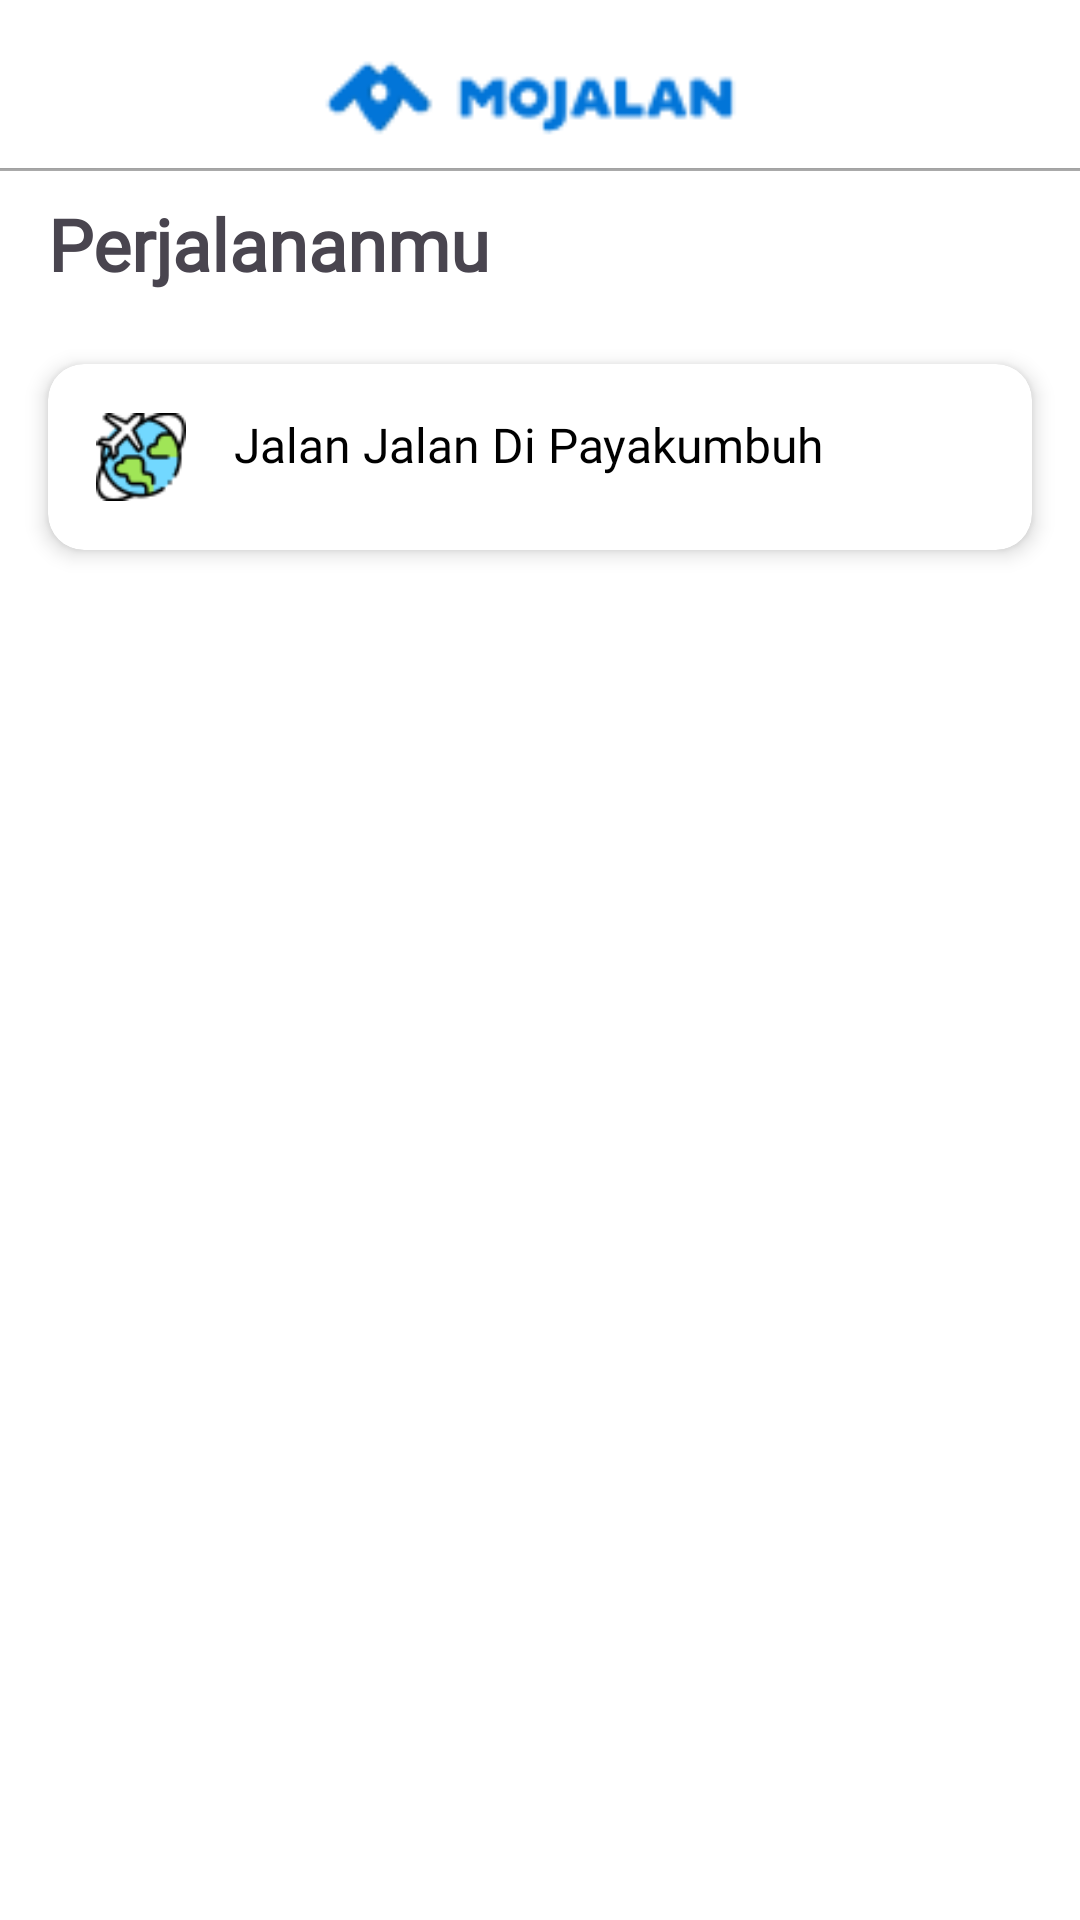

Where to tap for icons on this 1080x1920 app screen, as (x=x, y=y):
Trip Icon: (x=141, y=457)
